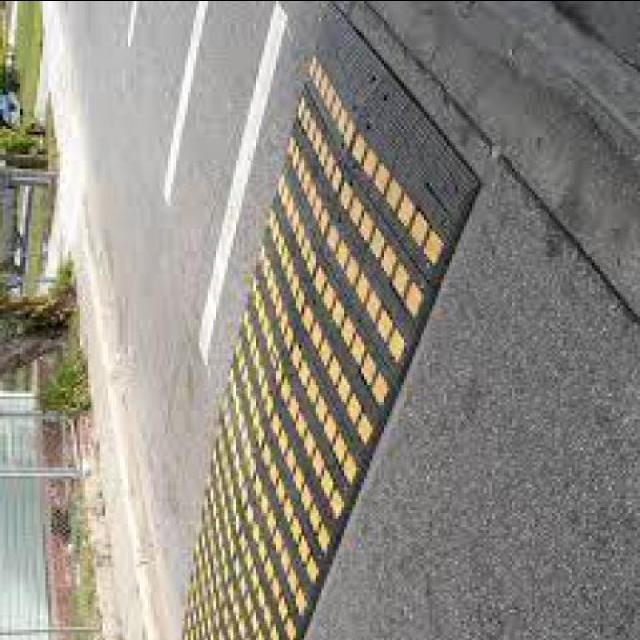Speed_Breaker: (158, 2, 491, 640), (184, 19, 478, 639)
